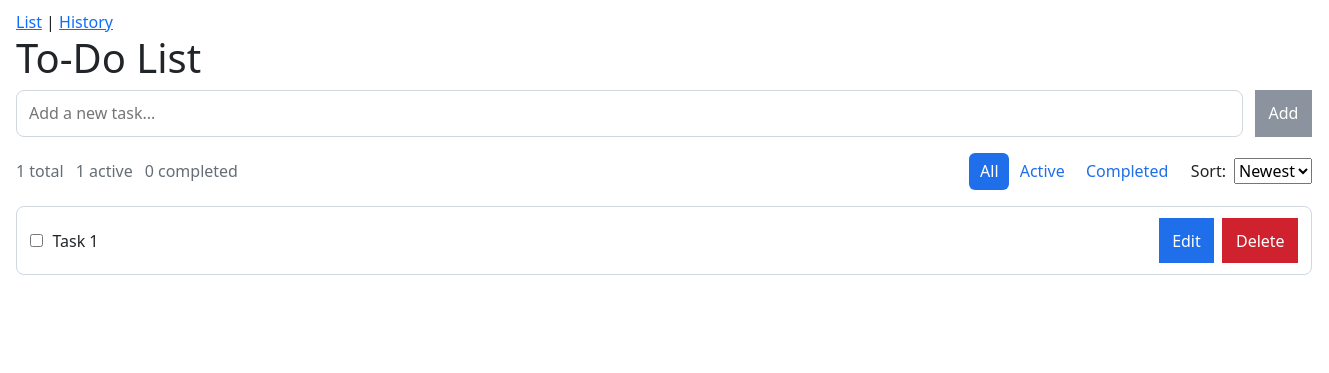
Test: App › renders todos and adds a new item
Expected: the text "Task 1" is shown, top-left (52, 228), bottom-right (98, 252)
Type "New Task" into the field with placeholder "Add a new task..." at [629, 113], box top-left (16, 90), bottom-right (1243, 137)
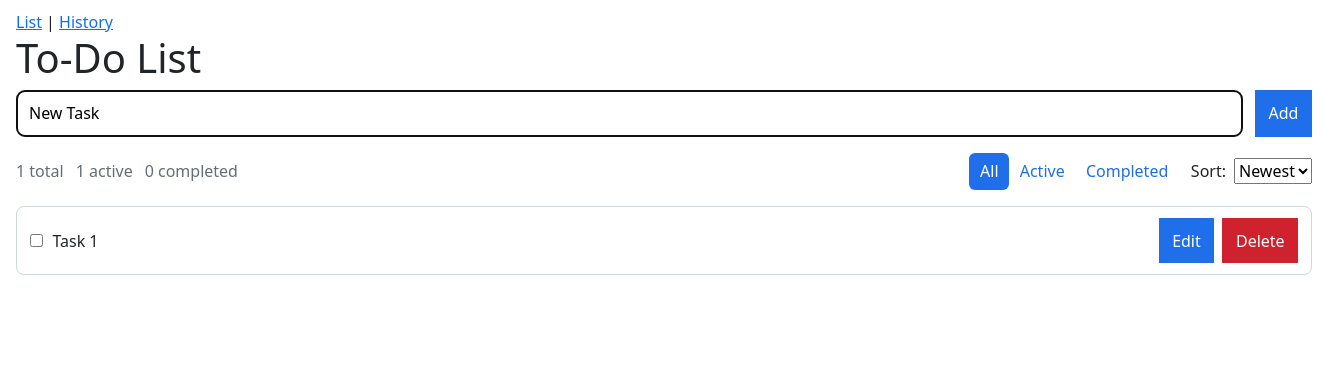
Click the button "Add" at [1283, 113], box top-left (1255, 90), bottom-right (1312, 137)
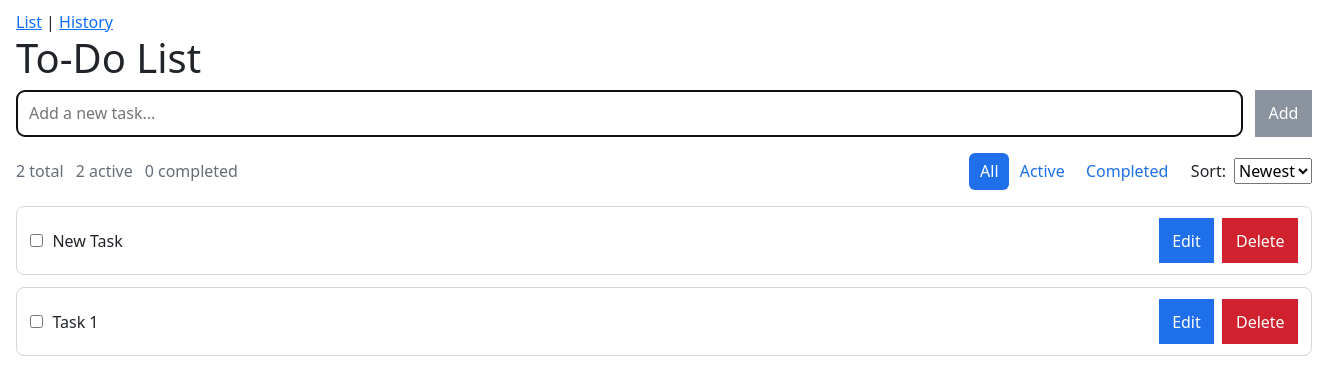
Expected: the text "New Task" is shown, top-left (52, 228), bottom-right (123, 252)
